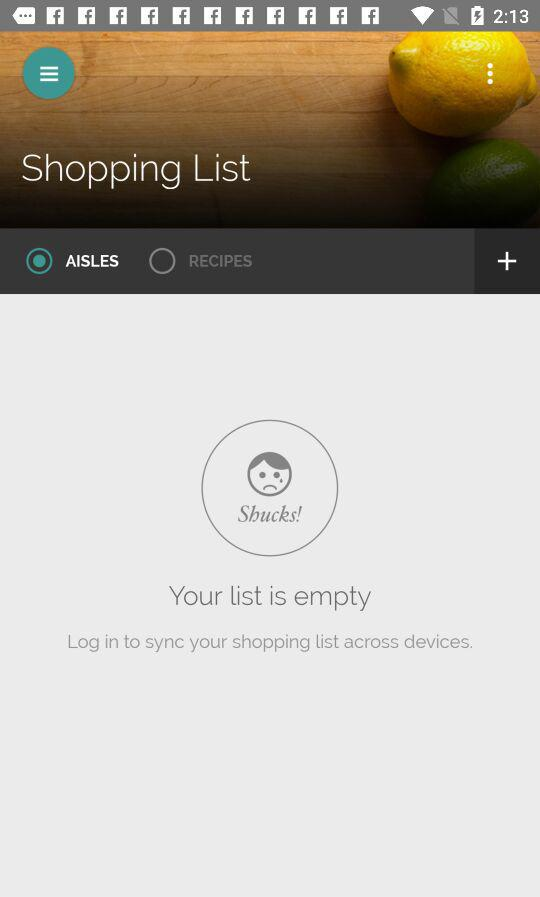CheckedTextView: (148, 248, 255, 277), (26, 248, 121, 277)
Icon: (24, 49, 76, 101), (497, 252, 517, 272), (486, 63, 494, 86)
Image: (1, 33, 540, 229), (201, 419, 339, 558)
Text: (22, 153, 251, 191), (69, 633, 473, 653), (169, 585, 372, 612), (189, 255, 254, 269), (66, 255, 120, 269)
UpperTaskBar: (1, 1, 540, 33)
